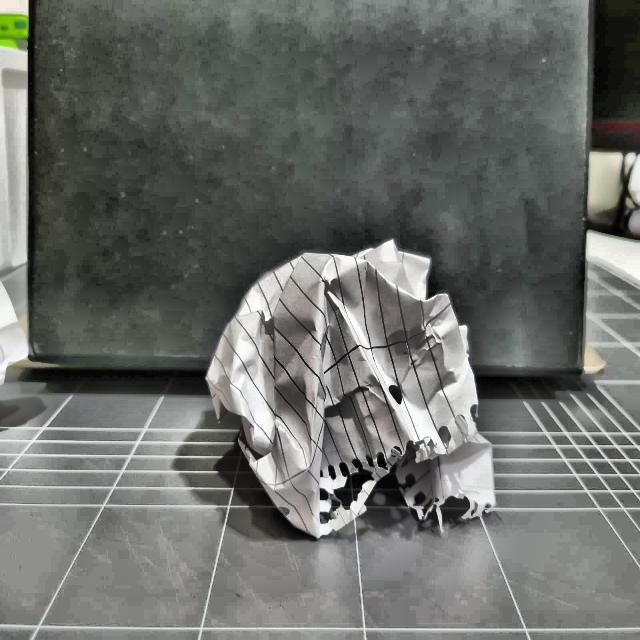Paper: (213, 237, 500, 534)
